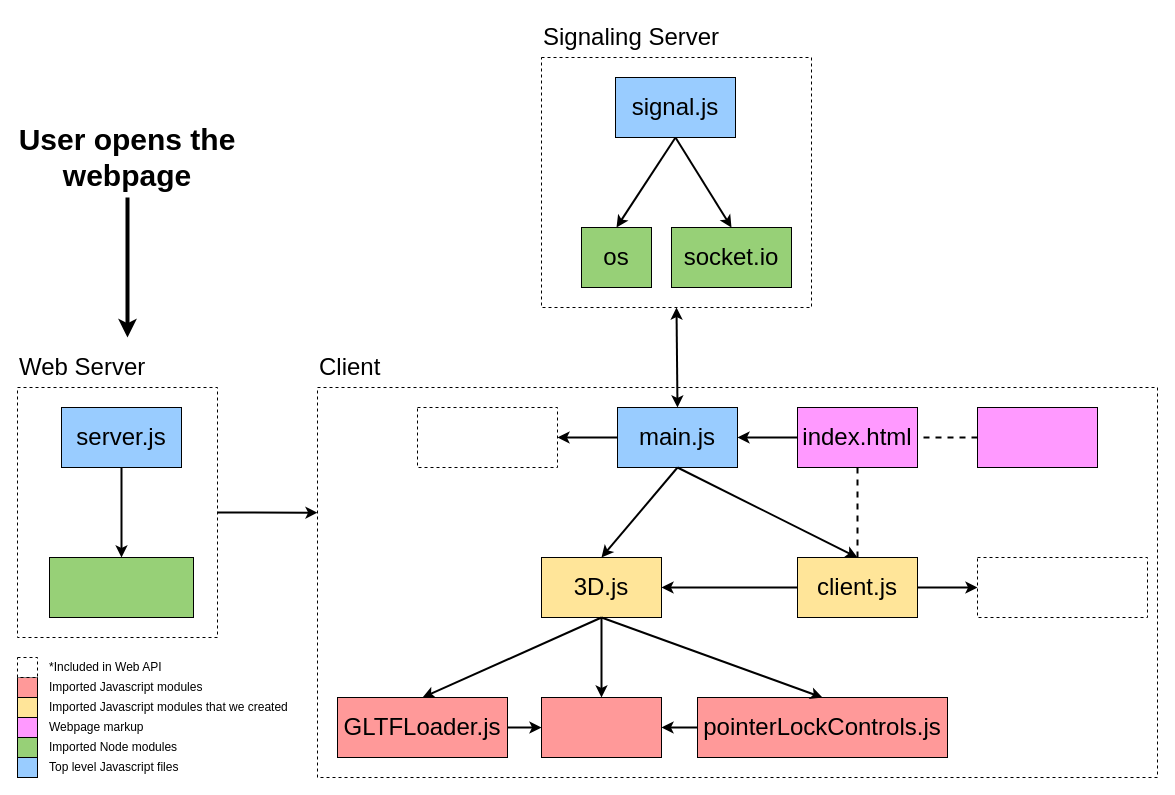
Image size: 1175x795. Some labels were removed from this diagram. Here are the shapes that lost their labels. From the top down, the centre of each, then its label:
At pixel 487 437: "WebRTC*".
At pixel 1037 437: "index.css".
At pixel 121 587: "node-static".
At pixel 1062 587: "getUserMedia*".
At pixel 601 727: "three.js".
